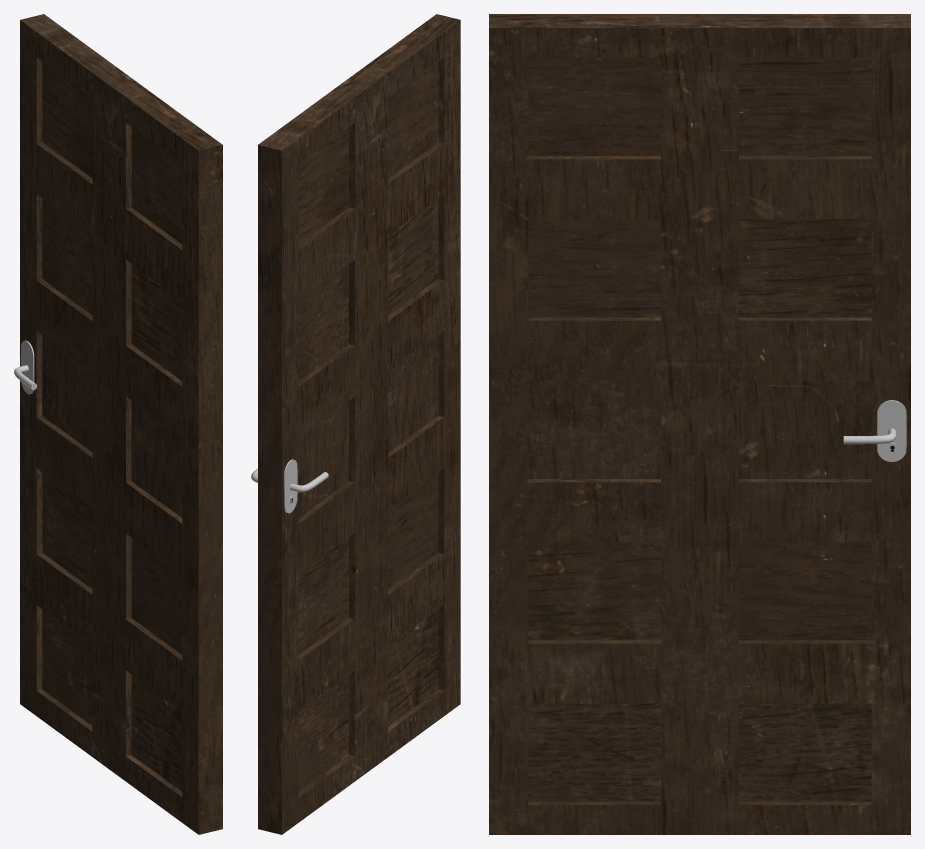
Rendered from door.fbx.
3 renders of one model, left to right at view 1: azimuth 30°, elevation 25°; view 2: azimuth 150°, elevation 25°; view 3: azimuth 270°, elevation 25°, orthographic. The views are drawn at different scales.
Visible parts, largest first — view 1: Cube.001; view 2: Cube.001; view 3: Cube.001.
Part boxes in pixels (<box>): Cube.001: <box>14,14,222,834</box>; Cube.001: <box>251,14,460,834</box>; Cube.001: <box>489,14,910,834</box>.
Bounding box in the file's own units: 17.42 × 190 × 90.
